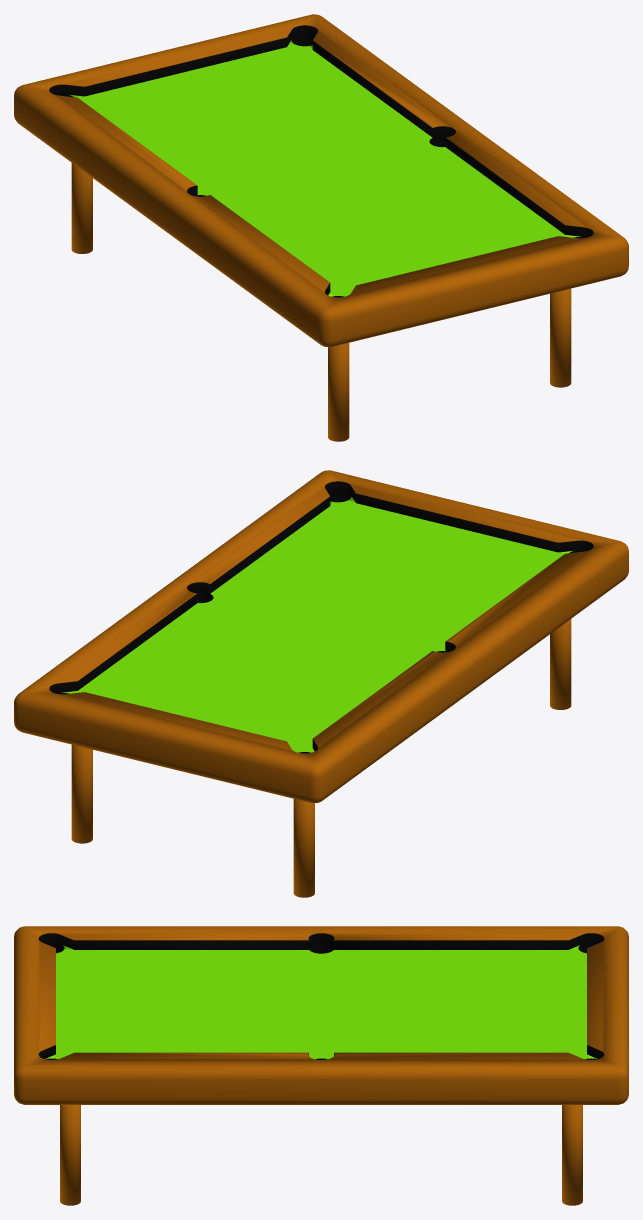
File: BilliardTable.fbx
3 renders of one model, top to bottom at view 1: azimuth 30°, elevation 25°; view 2: azimuth 150°, elevation 25°; view 3: azimuth 270°, elevation 25°, orthographic. The views are drawn at different scales.
Parts seen in each view (by area): view 1: obj1; view 2: obj1; view 3: obj1.
Boxes of the visible parts, <box> form: obj1: <box>14,14,628,441</box>; obj1: <box>14,470,628,897</box>; obj1: <box>14,926,628,1205</box>.
Bounding box in the file's own units: 16.7 × 8 × 29.4.
